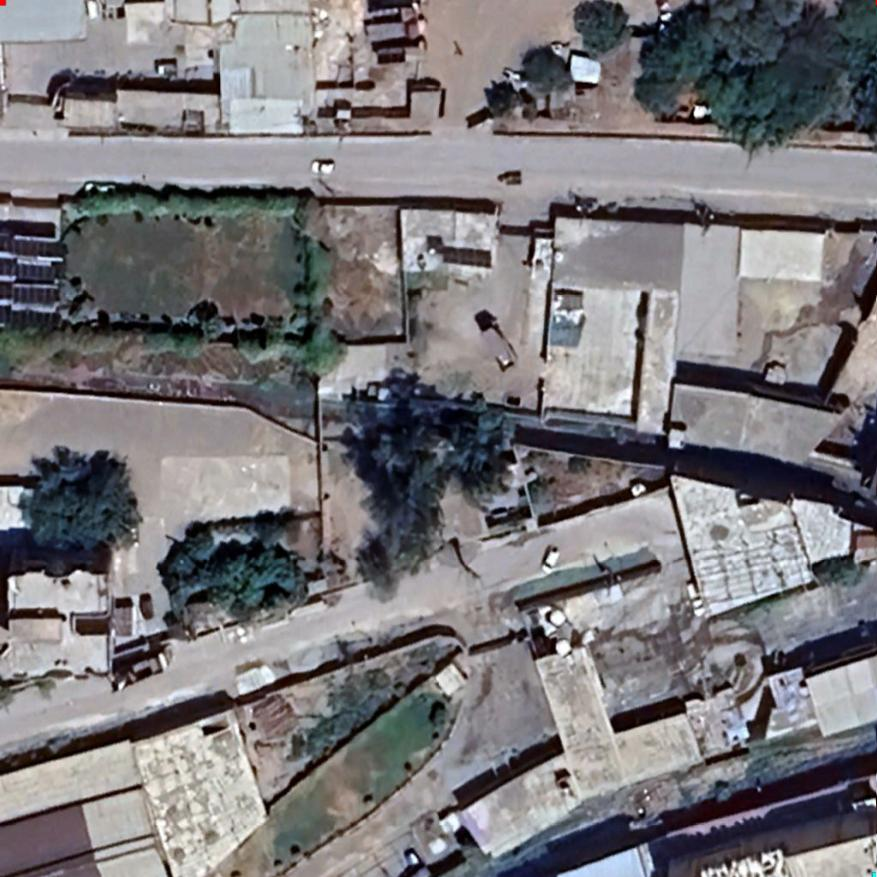Solarpanel: (0, 235, 67, 261), (2, 257, 64, 282), (0, 286, 65, 306)
